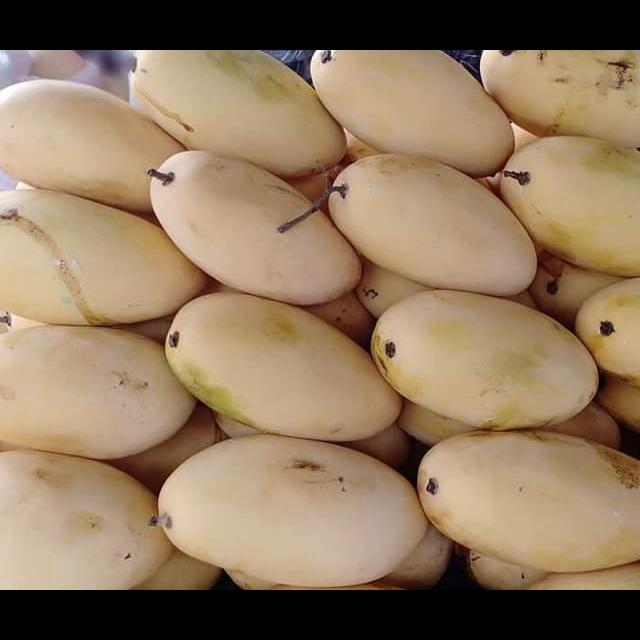mango: (157, 435, 428, 590), (164, 292, 402, 445), (150, 147, 364, 304), (368, 291, 600, 430), (416, 431, 640, 573), (0, 183, 214, 329), (322, 156, 539, 299), (0, 79, 189, 222), (309, 50, 518, 178), (0, 323, 198, 455), (133, 50, 346, 167), (0, 449, 169, 590), (488, 134, 640, 279), (476, 50, 640, 150), (573, 277, 640, 391)
